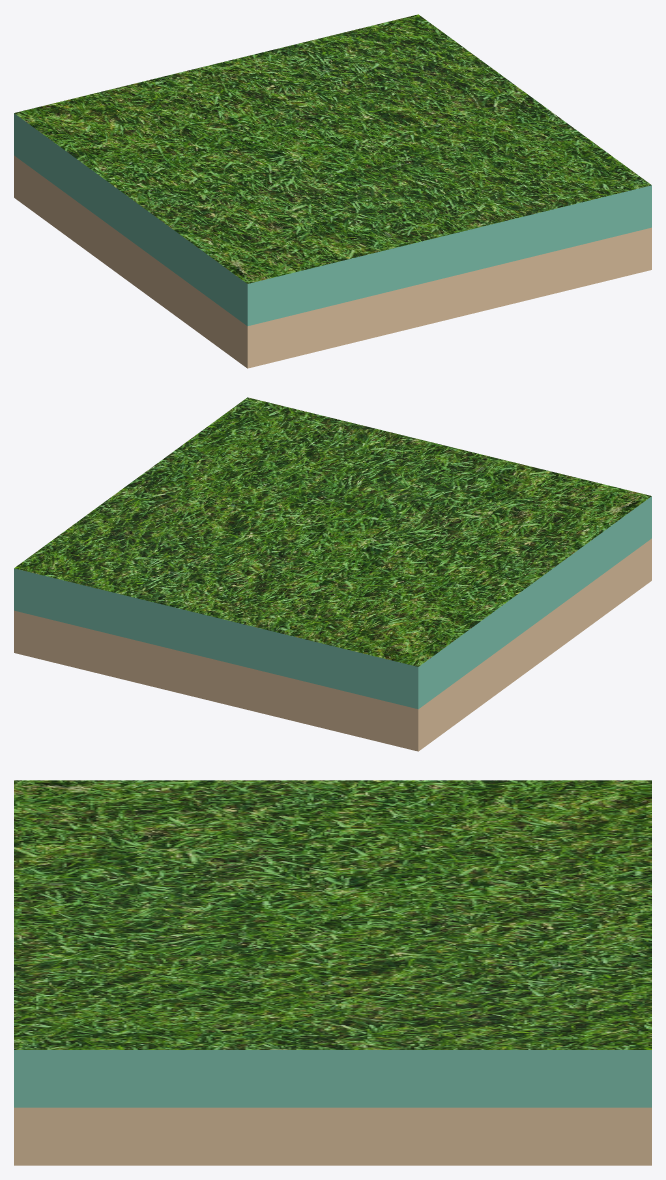
Rendered from tile1glb.glb.
3 views of the same model, one above another, from view 1: azimuth 30°, elevation 25°; view 2: azimuth 150°, elevation 25°; view 3: azimuth 270°, elevation 25° (orthographic). The views are drawn at different scales.
Visible parts, largest first — view 1: tile; view 2: tile; view 3: tile.
Boxes of the visible parts, x1,y1,x2,y2 form: tile: (14,14,651,368); tile: (14,397,651,751); tile: (14,780,651,1165).
Size of the model in its own units: 1 by 0.2 by 1.
3 materials, 1 textured.
